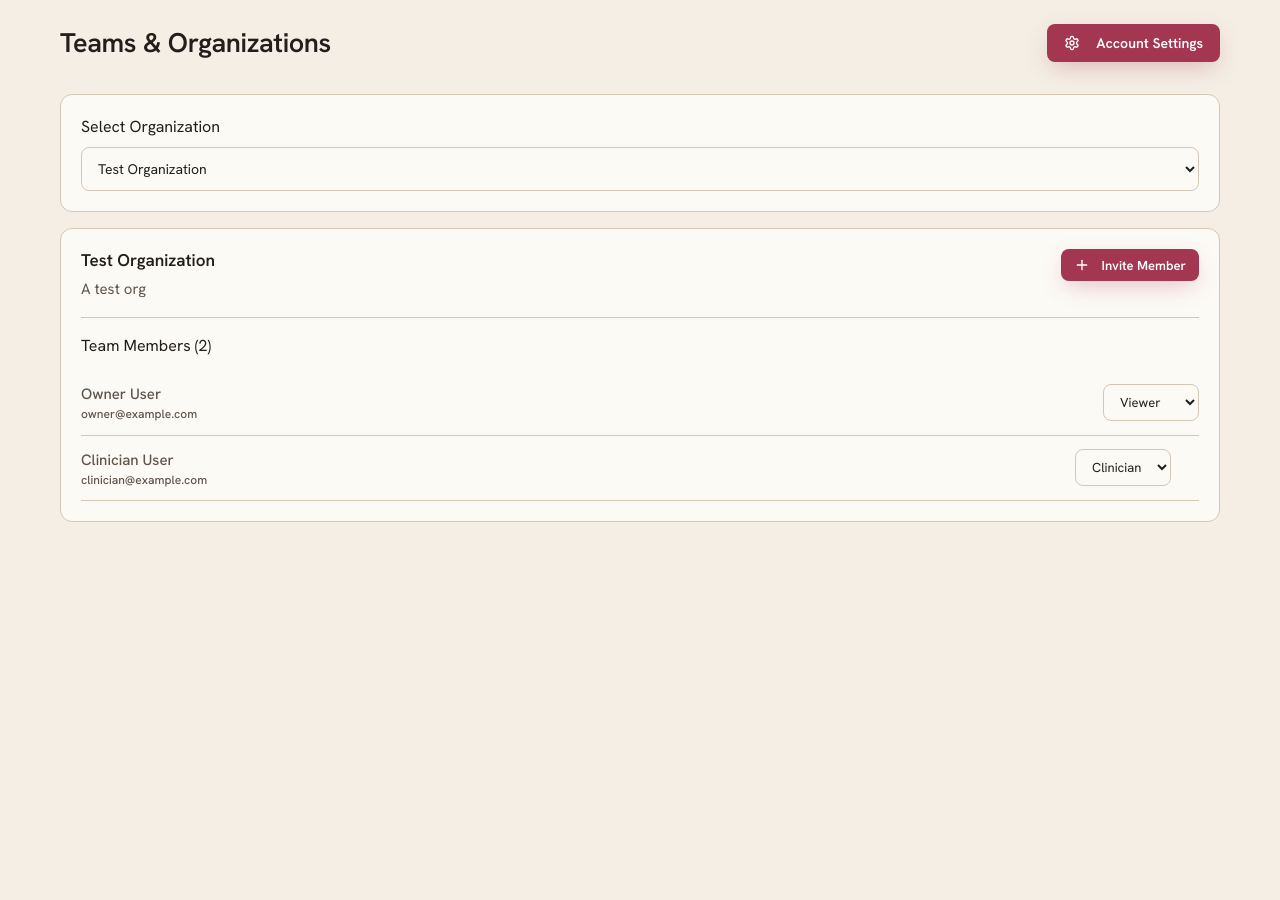
it: Teams Page › should handle invitation errors
Click the button "Invite Member" at (1130, 265), box [1061,249,1199,281]
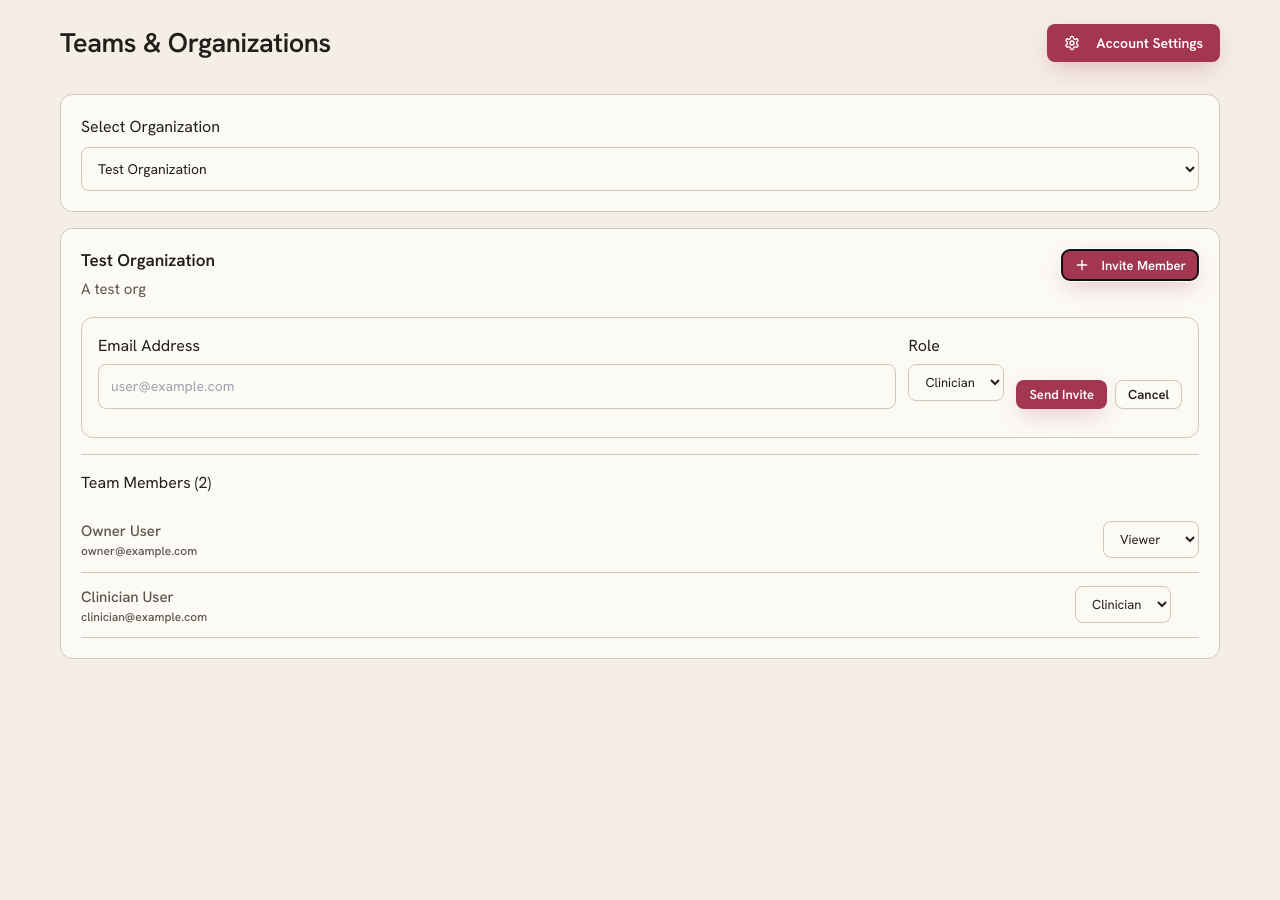
Type "existing@example.com" into the field labelled "Email Address" at (497, 386), box [98,364,896,409]
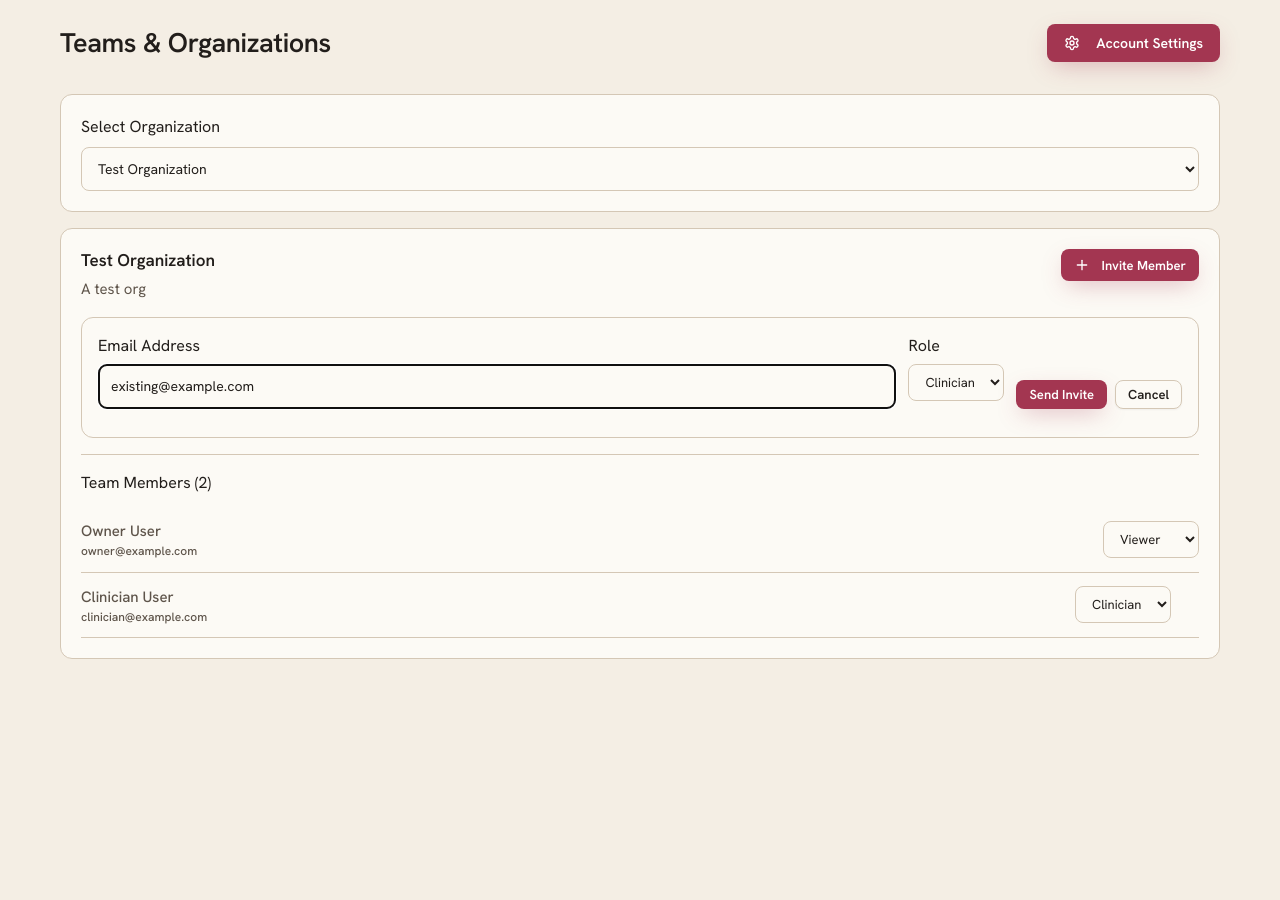
Click the button "Send Invite" at (1062, 394), box [1016,380,1107,409]
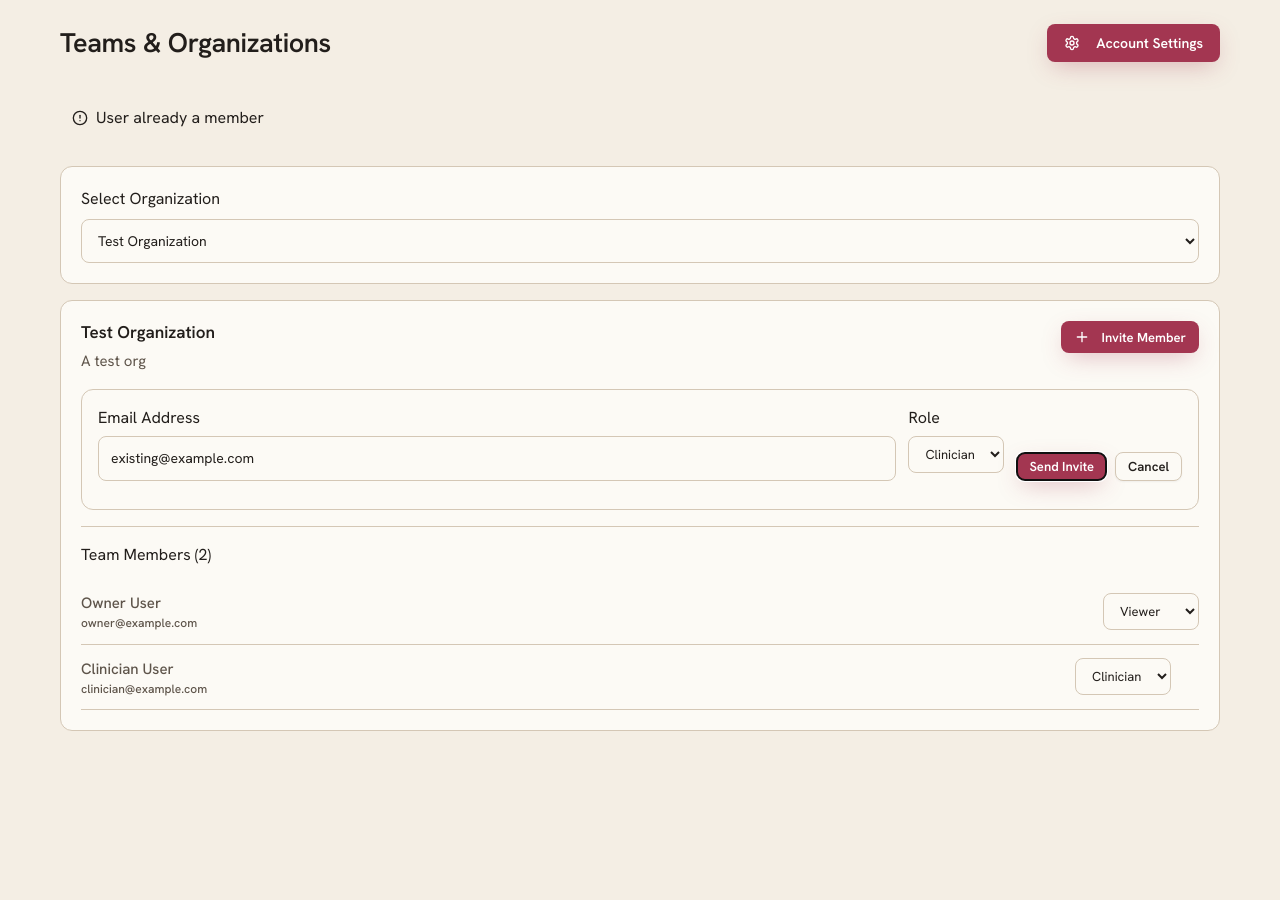
Result: the text "User already a member" is shown at [72,107,264,128]
